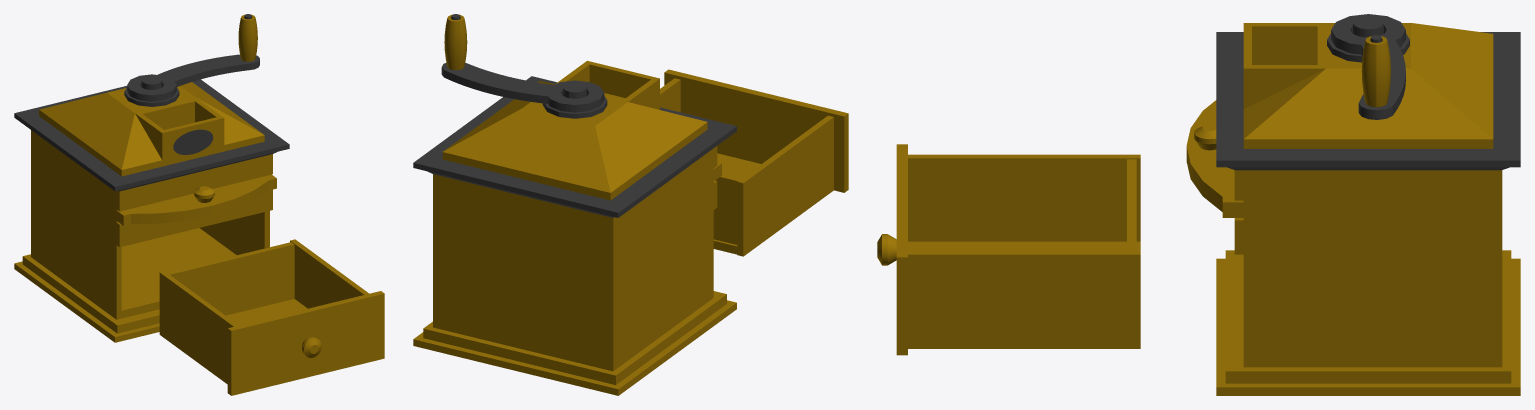
Rendered from Apothecary_Grinder_Open.fbx.
The picture shows the model from 3 angles, left to right: view 1: azimuth 30°, elevation 25°; view 2: azimuth 150°, elevation 25°; view 3: azimuth 270°, elevation 25°; orthographic projection. The views are drawn at different scales.
Parts seen in each view (by area): view 1: Group20, OuterShell, Group1, Group27, Group25, Group8, Group6, Group23, Group24, Group11, Group2, Group19 (+15 smaller); view 2: Group22, Group20, Group8, OuterShell, Group1, Group25, Group2, Group17, Group18, Group27, Group11, Group13 (+7 smaller); view 3: Group21, Group24, Group25, Group8, Group1, Group16, Group10, Group17, Group19, Group2, Group6, Group14 (+8 smaller).
Boxes of the visible parts, box(x1,y1,x2,y2) form: Group20: box(34, 132, 121, 319); OuterShell: box(227, 291, 384, 395); Group1: box(14, 228, 236, 342); Group27: box(167, 242, 294, 315); Group25: box(159, 271, 238, 384); Group8: box(39, 82, 236, 155); Group6: box(116, 174, 276, 225); Group23: box(116, 154, 272, 211); Group24: box(290, 239, 368, 308); Group11: box(94, 113, 162, 176); Group2: box(127, 14, 259, 101); Group19: box(115, 141, 289, 191); Group22: box(433, 174, 616, 371); Group20: box(616, 148, 713, 368); Group8: box(442, 84, 675, 200); OuterShell: box(664, 69, 848, 192); Group1: box(413, 291, 736, 395); Group25: box(737, 115, 833, 256); Group2: box(441, 14, 604, 112); Group17: box(413, 159, 618, 217); Group18: box(611, 126, 736, 217); Group27: box(713, 173, 741, 244); Group11: box(628, 102, 707, 152); Group13: box(584, 60, 659, 109); Group21: box(1243, 170, 1493, 367); Group24: box(908, 251, 1140, 348); Group25: box(908, 154, 1140, 241); Group8: box(1326, 23, 1493, 148); Group1: box(1216, 250, 1520, 395); Group16: box(1216, 149, 1520, 170); Group10: box(1243, 69, 1325, 148); Group17: box(1493, 32, 1520, 160); Group19: box(1216, 32, 1243, 160); Group2: box(1331, 14, 1405, 119); Group6: box(1186, 100, 1243, 217); Group14: box(1252, 23, 1317, 64).
Bounding box in the file's own units: 0.343 × 0.4054 × 0.6441.
